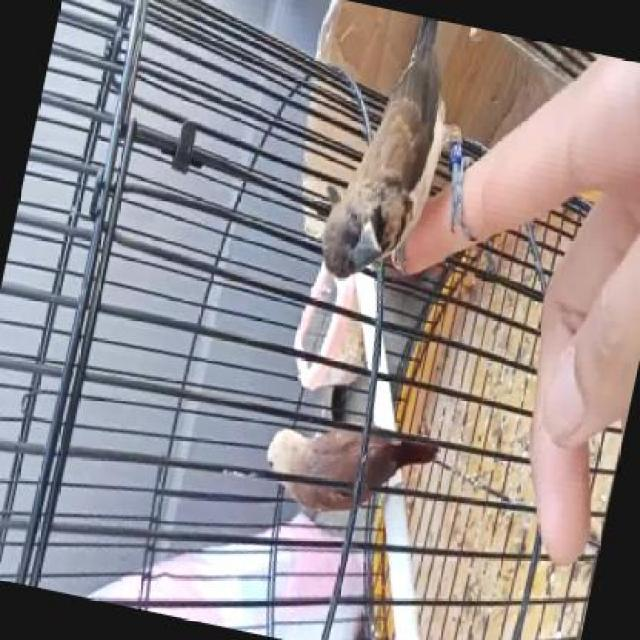Bird: (309, 12, 479, 301), (258, 416, 462, 528)
